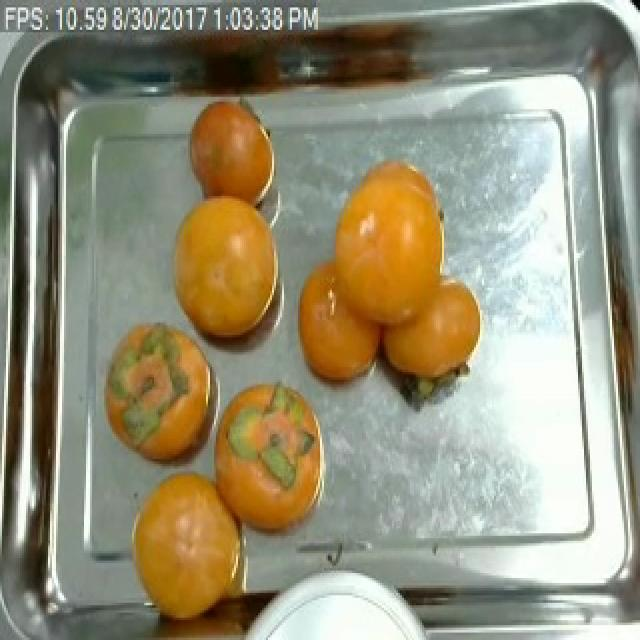Fruit: (114, 454, 264, 637), (208, 362, 334, 566), (90, 305, 220, 491), (160, 189, 282, 352), (368, 258, 492, 417), (328, 149, 458, 300), (182, 97, 280, 216)
